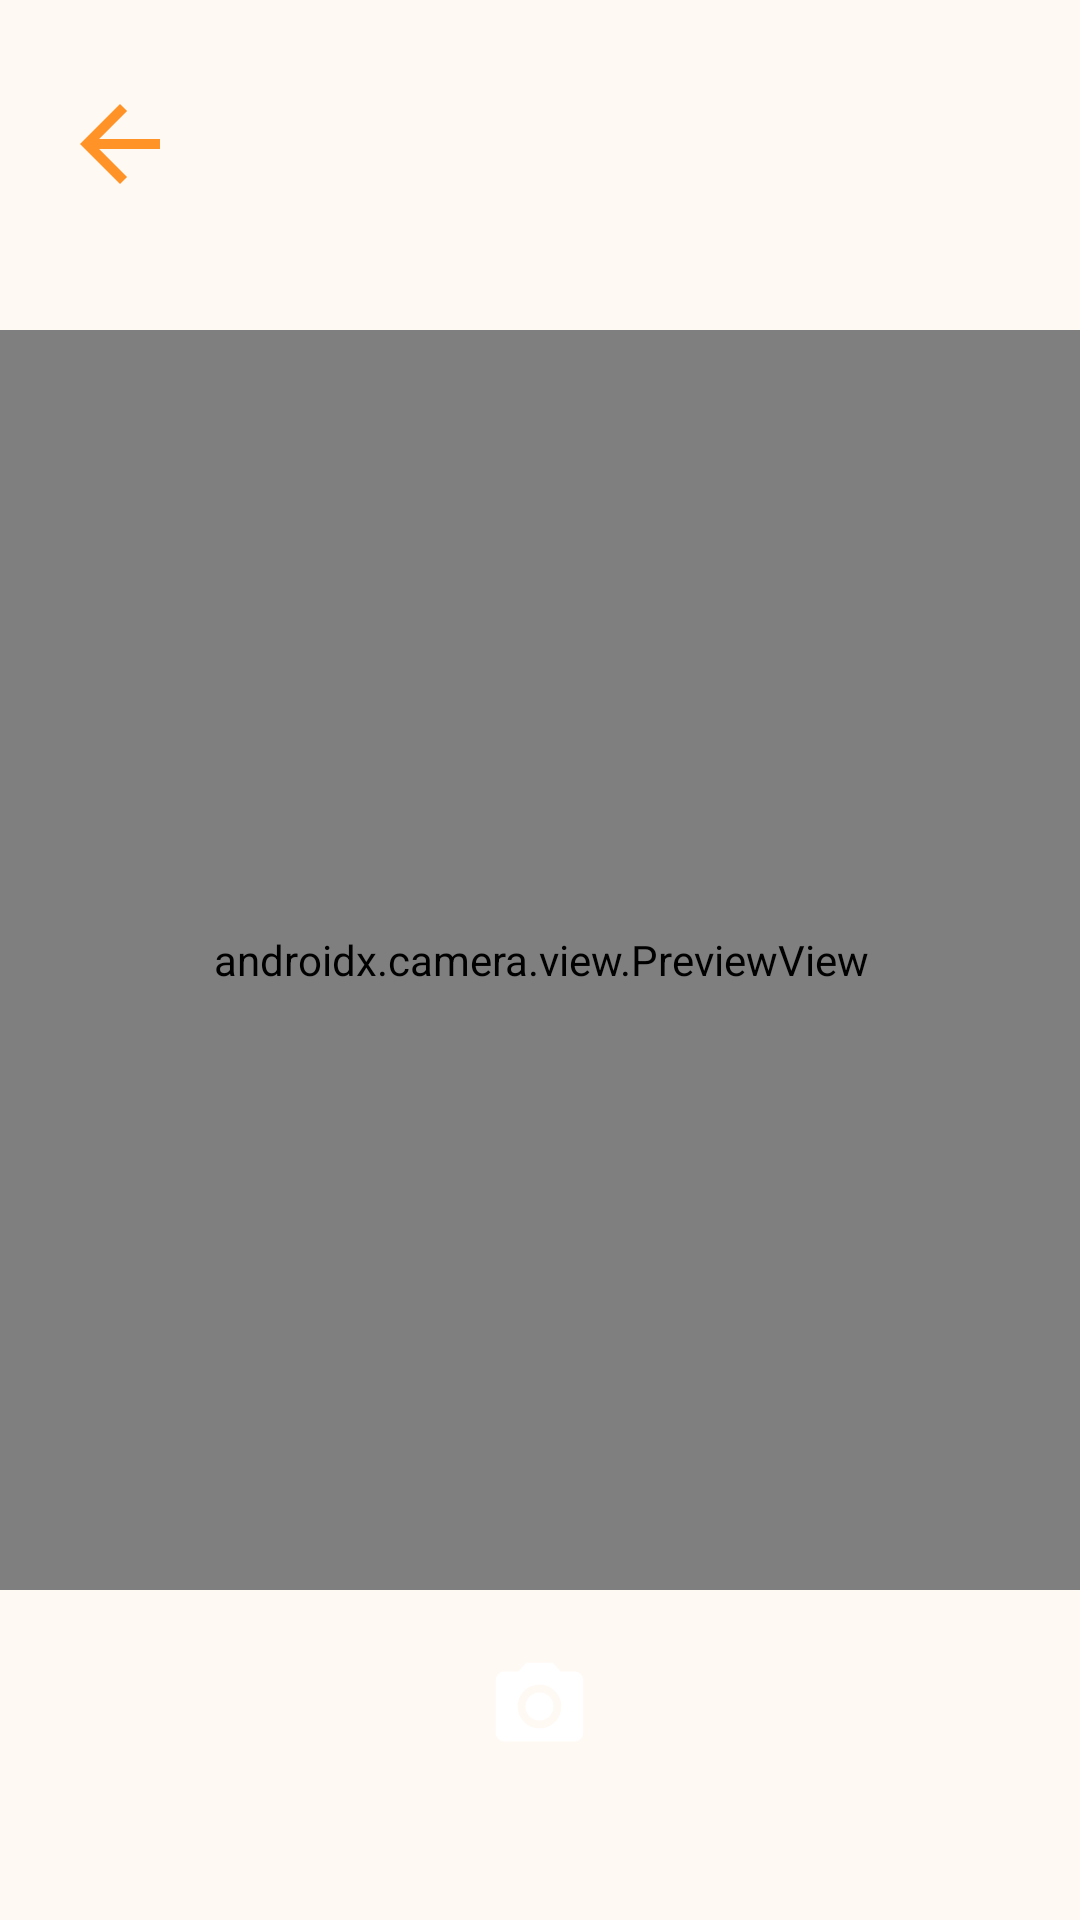

Screen size 1080px x 1920px. Icon name, then its box in pixels as detection(x1, y1, x2, y2):
arrow back: detection(80, 104, 160, 184)
